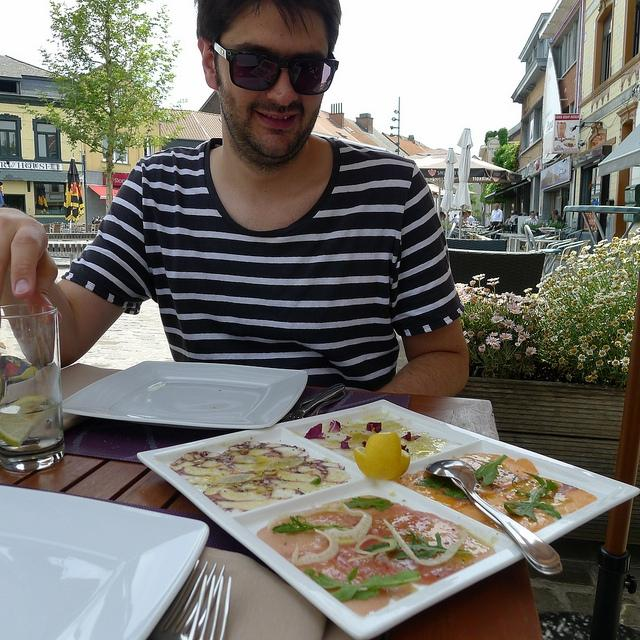lemon: (1, 395, 58, 447), (353, 432, 411, 482)
